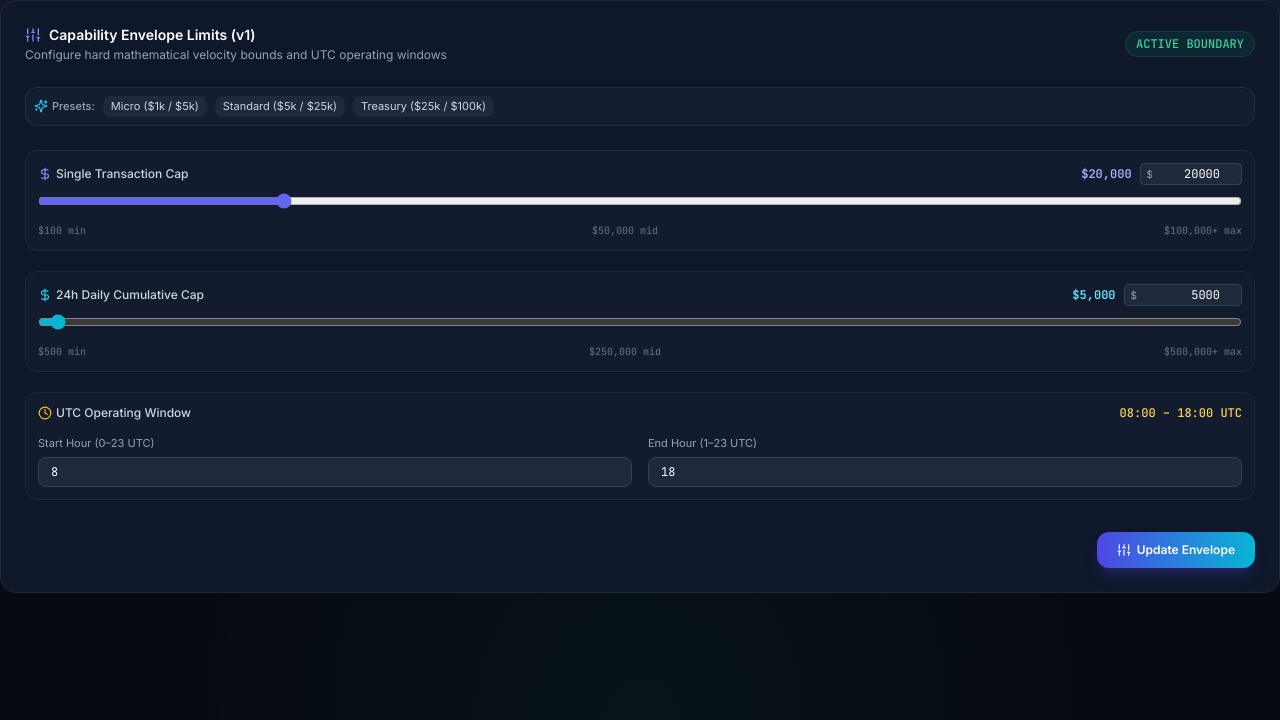
Test: CapabilitySliders Interactive Component › prevents saving when single limit exceeds daily cumulative cap
Click the button "Update Envelope". click: (1176, 550)
box: [1097,532,1255,568]
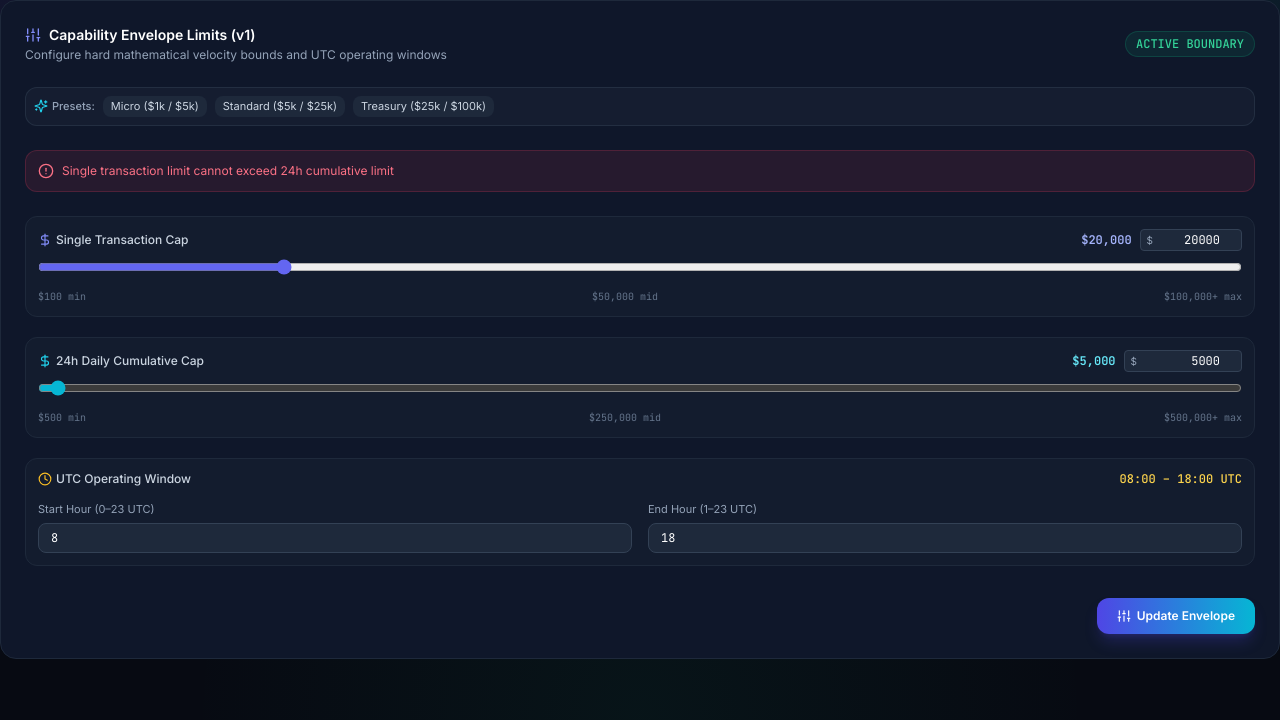
Result: the text "Single transaction limit cannot exceed 24h cumulative limit" is shown at [62,162,394,178]
